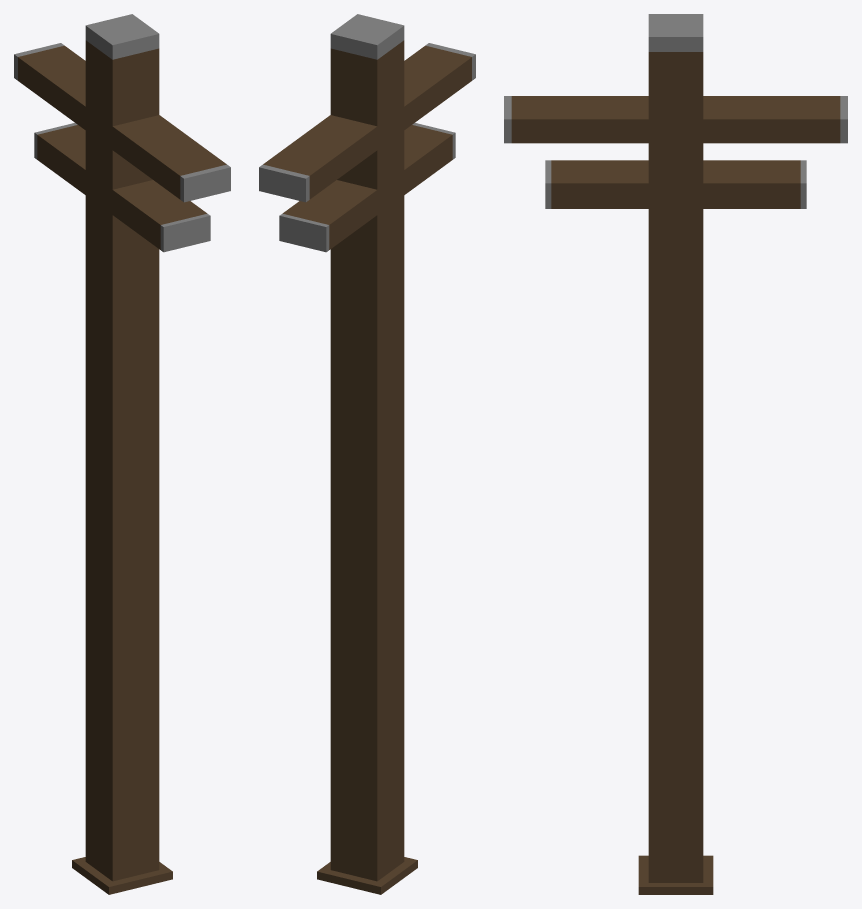
The model's file is lightPole.fbx.
3 renders of one model, left to right at view 1: azimuth 30°, elevation 25°; view 2: azimuth 150°, elevation 25°; view 3: azimuth 270°, elevation 25°, orthographic.
Parts seen in each view (by area): view 1: lightPole; view 2: lightPole; view 3: lightPole.
Boxes of the visible parts, <box> form: lightPole: <box>14,14,230,894</box>; lightPole: <box>259,14,475,894</box>; lightPole: <box>504,14,847,894</box>.
Bounding box in the file's own units: 120 × 1514 × 553.
